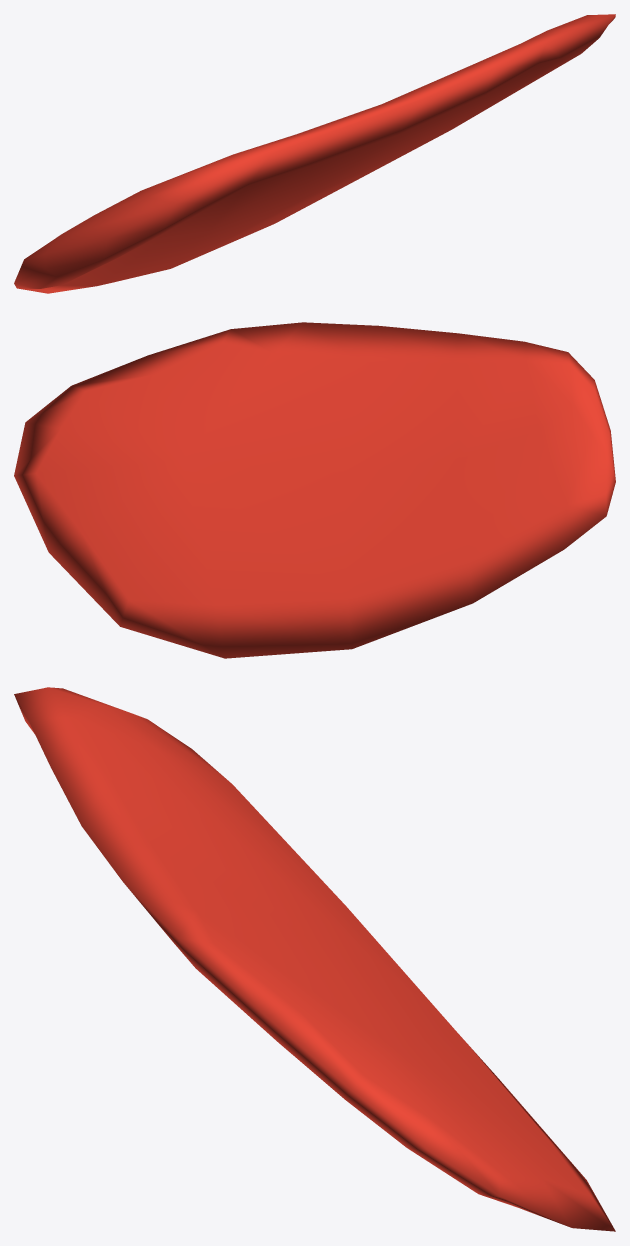
Rendered from Longus_capitis_muscle-Occipital_insertion.l_Generated_Mesh_From.glb.
The picture shows the model from 3 angles, top to bottom: view 1: azimuth 30°, elevation 25°; view 2: azimuth 150°, elevation 25°; view 3: azimuth 270°, elevation 25°; orthographic projection. The views are drawn at different scales.
Visible parts, largest first — view 1: Longus_capitis_muscle-Occipital_insertion.l_Generated_Mesh_F; view 2: Longus_capitis_muscle-Occipital_insertion.l_Generated_Mesh_F; view 3: Longus_capitis_muscle-Occipital_insertion.l_Generated_Mesh_F.
Part boxes in pixels (left/top/right/bottom): Longus_capitis_muscle-Occipital_insertion.l_Generated_Mesh_F: left=14, top=14, right=615, bottom=293; Longus_capitis_muscle-Occipital_insertion.l_Generated_Mesh_F: left=14, top=322, right=615, bottom=658; Longus_capitis_muscle-Occipital_insertion.l_Generated_Mesh_F: left=14, top=687, right=615, bottom=1231.
Size of the model in its own units: 0.00767 by 0.00318 by 0.00481.
